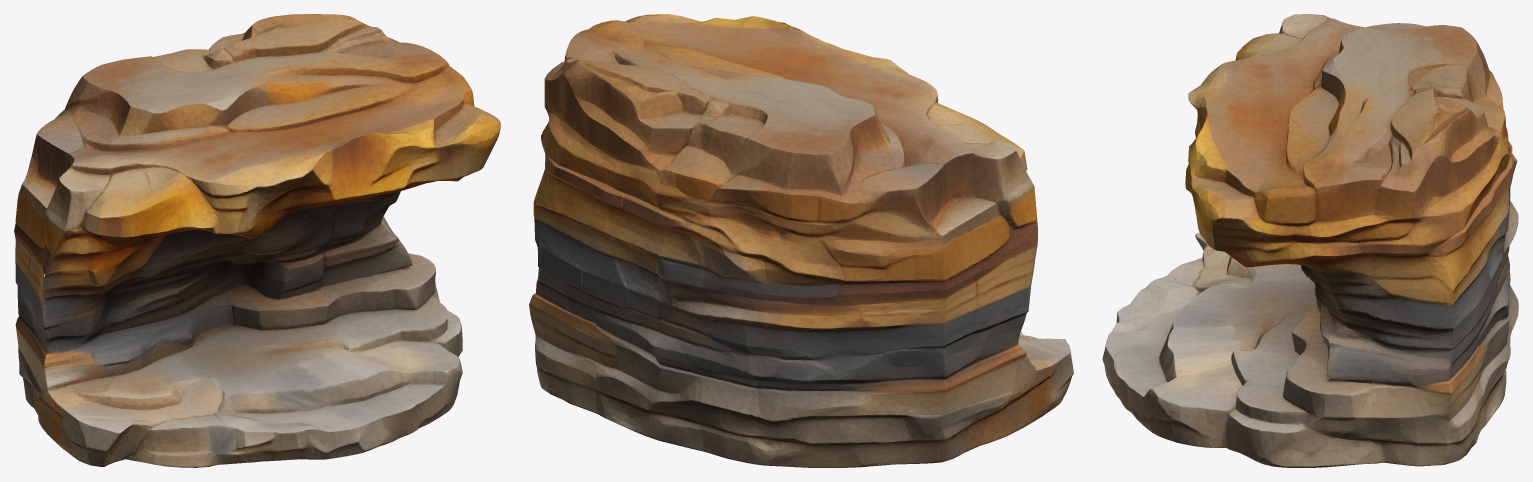
3 renders of one model, left to right at view 1: azimuth 30°, elevation 25°; view 2: azimuth 150°, elevation 25°; view 3: azimuth 270°, elevation 25°, orthographic. The views are drawn at different scales.
Visible parts, largest first — view 1: world; view 2: world; view 3: world.
Boxes of the visible parts, x1,y1,x2,y2 form: world: (14, 14, 500, 467); world: (529, 14, 1073, 467); world: (1102, 14, 1518, 467).
Size of the model in its own units: 1.1 by 0.7476 by 0.9044.
1 material, 1 textured.
